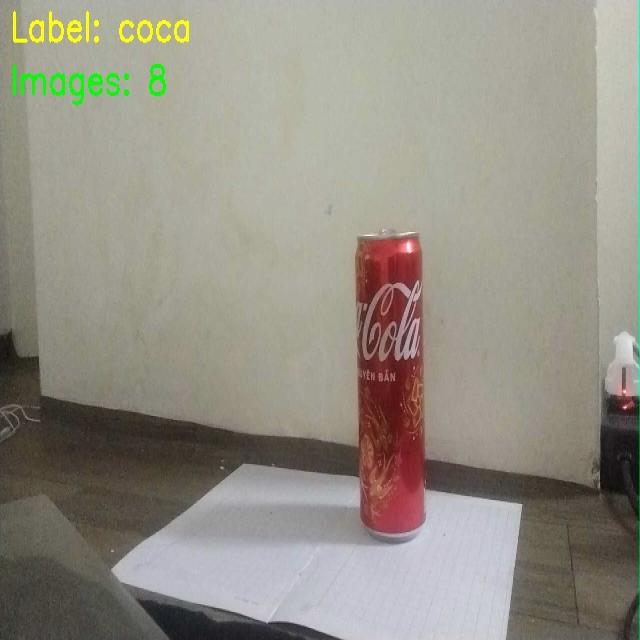Coca: (313, 207, 458, 553)
